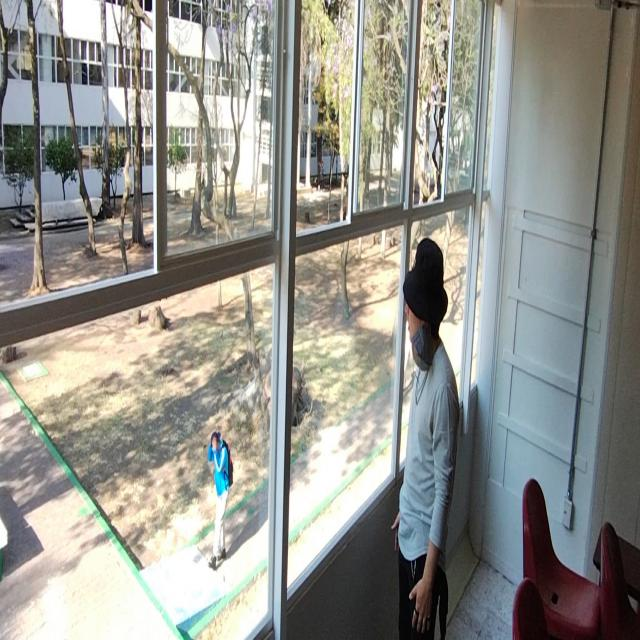adult: (390, 233, 458, 640), (207, 426, 234, 573)
